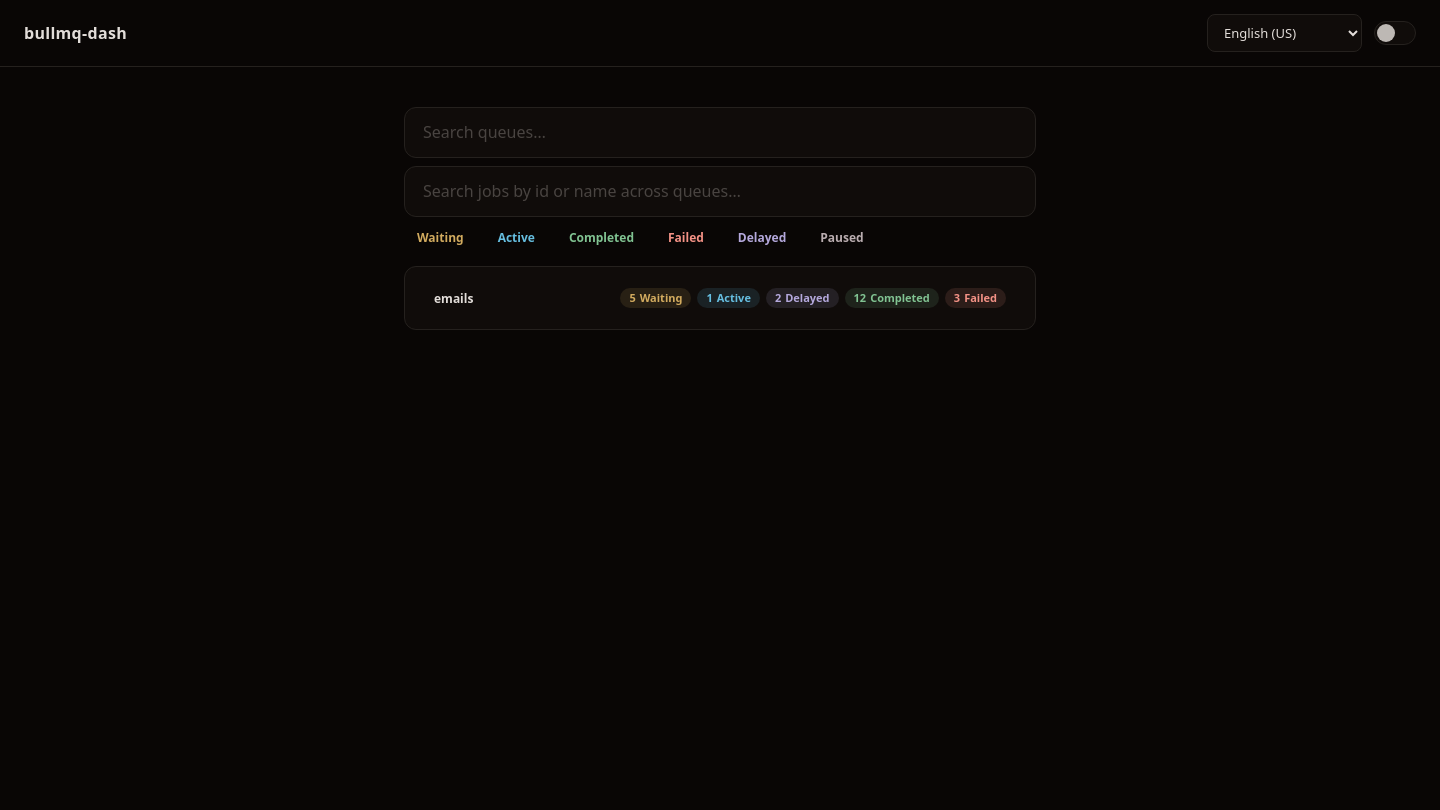
Test: App shell › opens the schedulers view through the tab strip
Click the button "emails 5 Waiting 1 Active 2 Delayed 12 Completed 3 Failed": x=720, y=298 [421,279,1019,318]
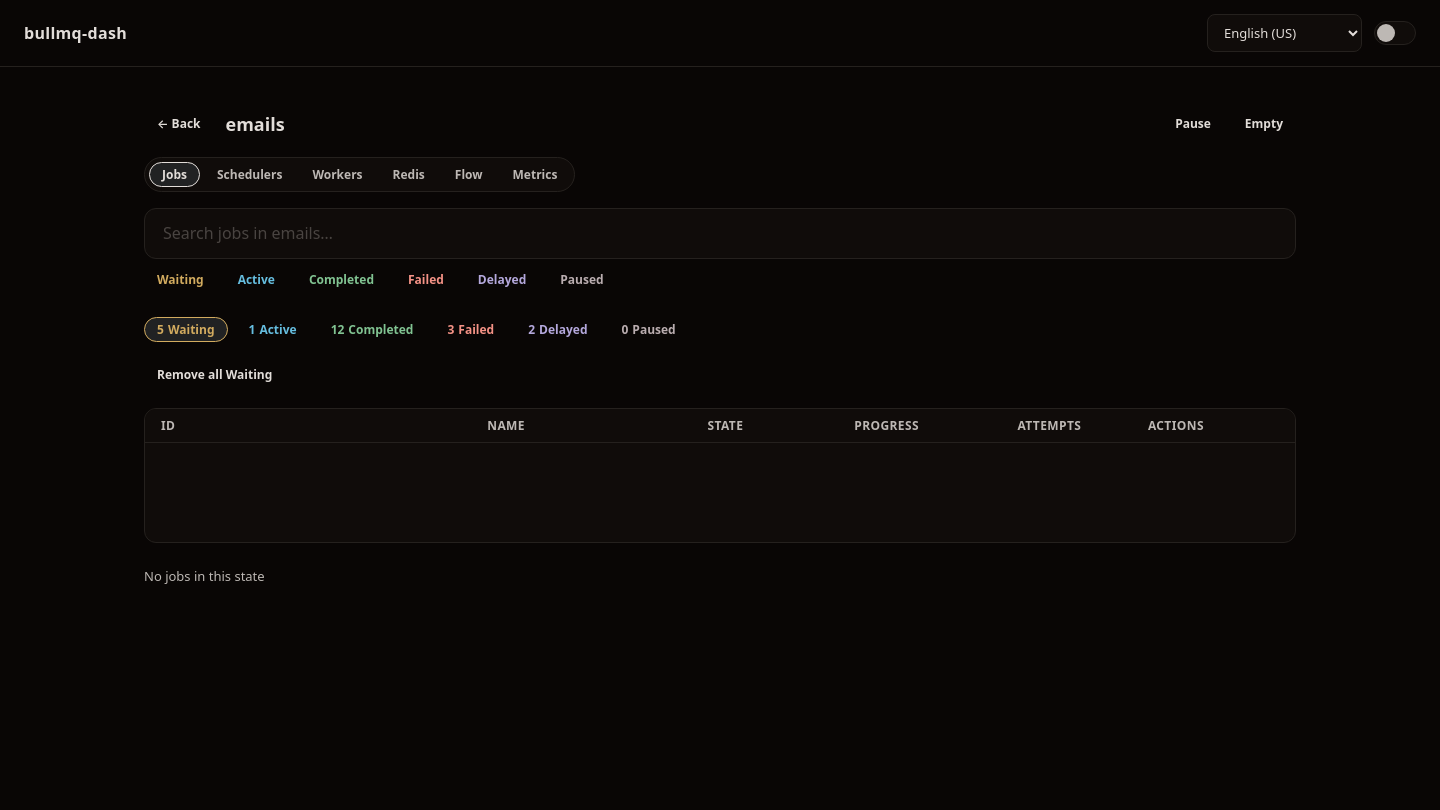
Click the button with aria-label "Open Schedulers view": x=250, y=174 [204,162,295,187]
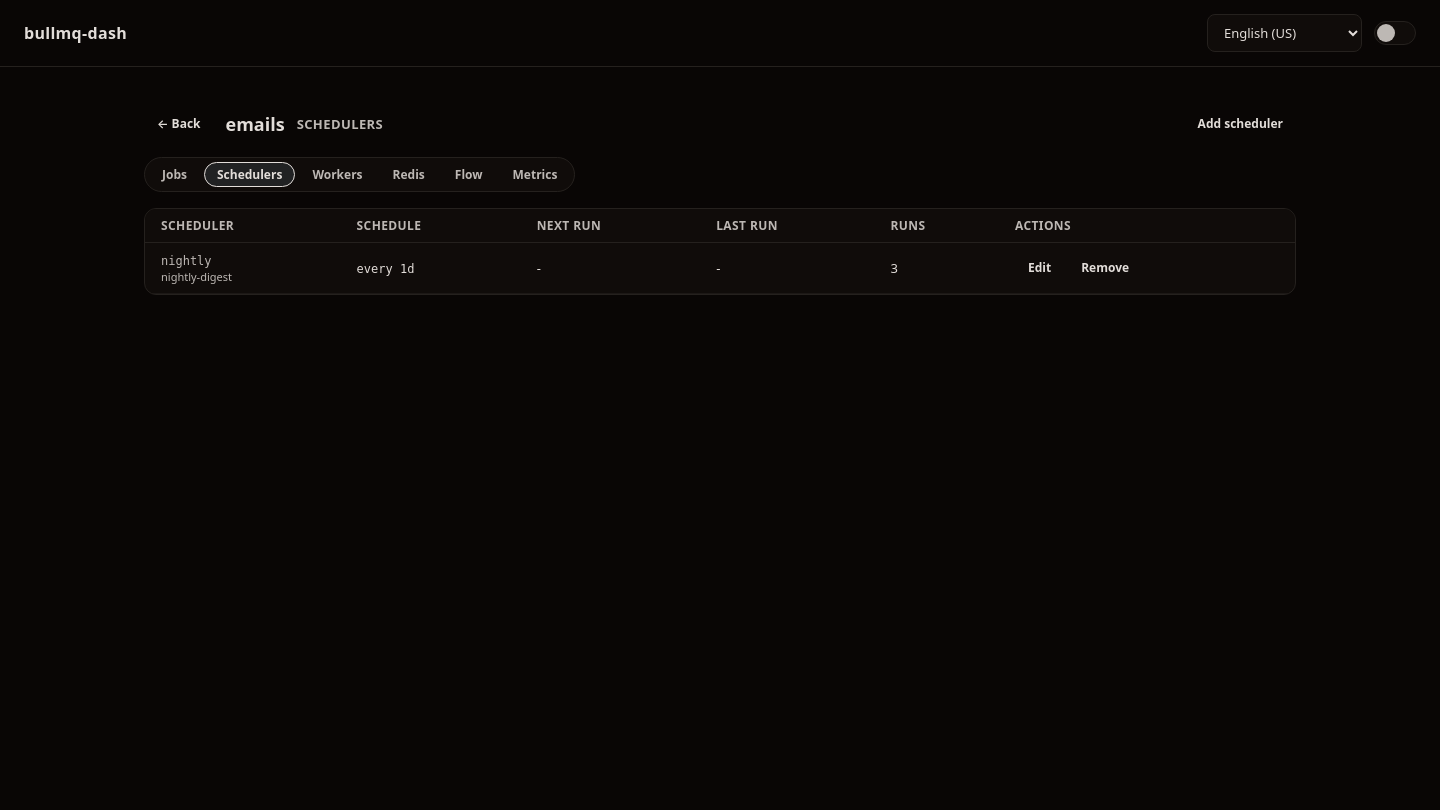
expect the text "nightly-digest" is shown: met, box [161,270,232,284]
expect the text "every 1d" is shown: met, box [357,262,414,276]
Click the button with aria-label "Open Jobs view": x=174, y=174 [149,162,200,187]
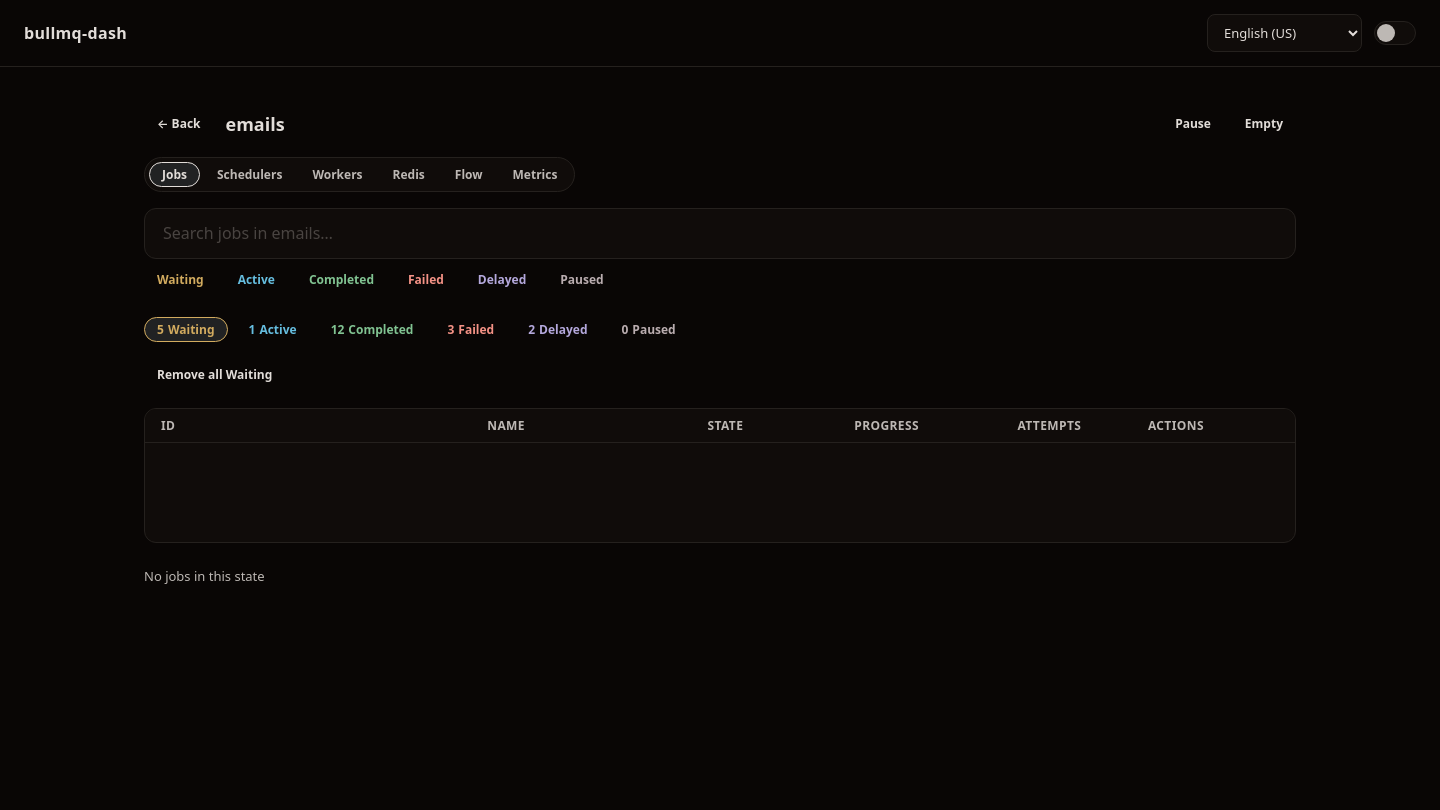
expect the element named "Job states" is shown: met, box [144,317,689,342]
